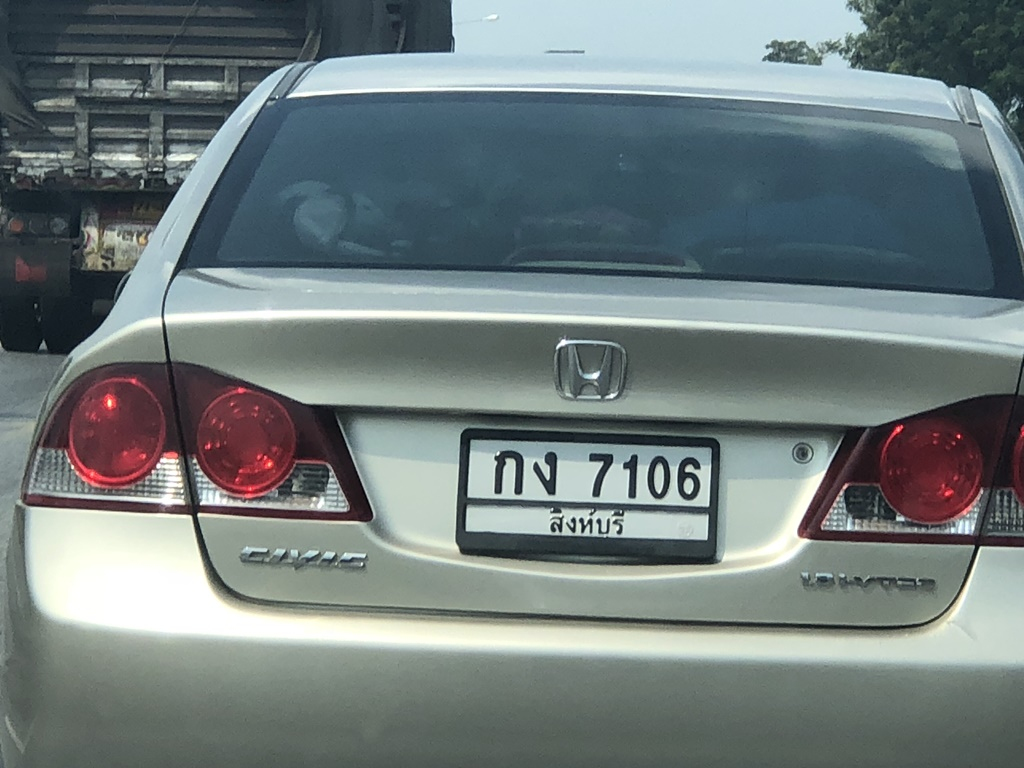one: (619, 449, 651, 511)
plate: (451, 420, 724, 564)
seven: (577, 441, 616, 506)
six: (670, 449, 709, 509)
zero: (639, 450, 674, 506)
